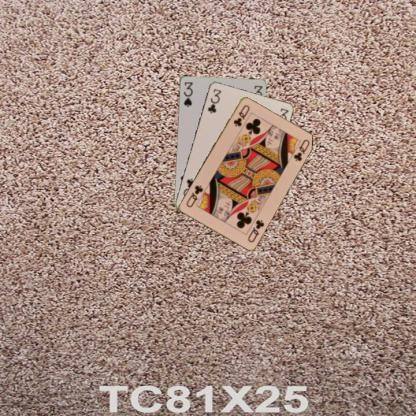3c: (205, 86, 223, 115)
3s: (181, 79, 193, 108)
Qc: (245, 216, 265, 244), (230, 102, 250, 128)
